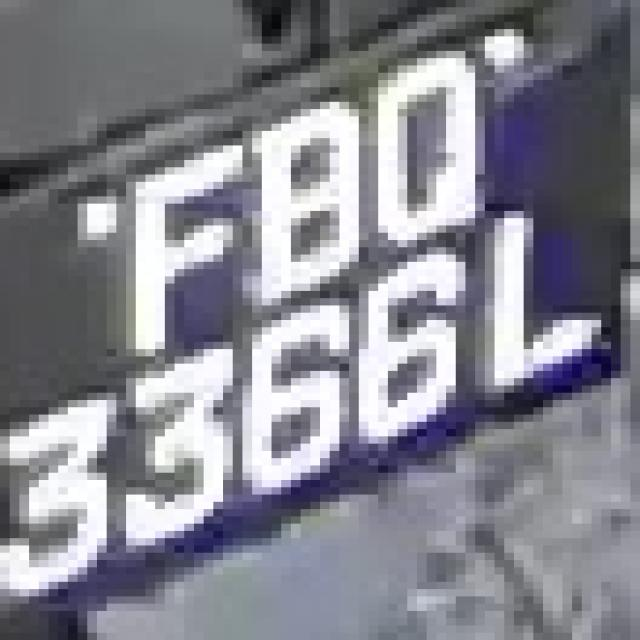3: (116, 342, 252, 553), (0, 385, 116, 589)
6: (330, 240, 485, 451), (213, 298, 339, 495)
B: (223, 94, 369, 306)
F: (97, 131, 242, 349)
L: (485, 189, 630, 400)
Q: (340, 36, 494, 269)
